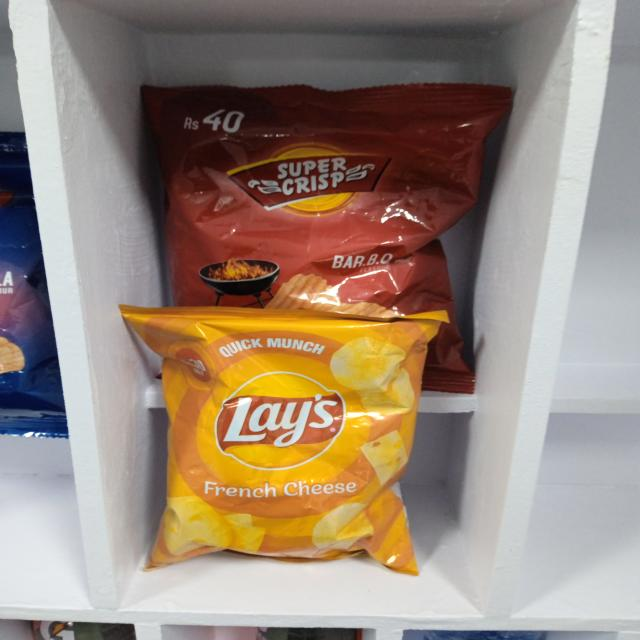Plastic: (134, 84, 496, 316), (140, 325, 424, 568), (0, 130, 59, 433)
